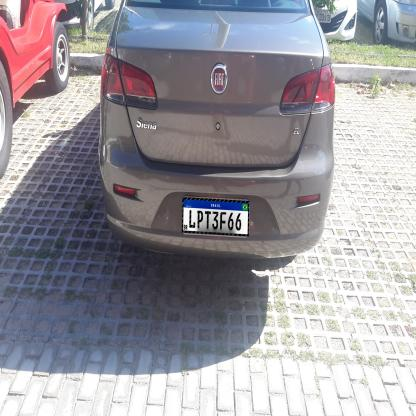PlacaM: (182, 198, 249, 236)
